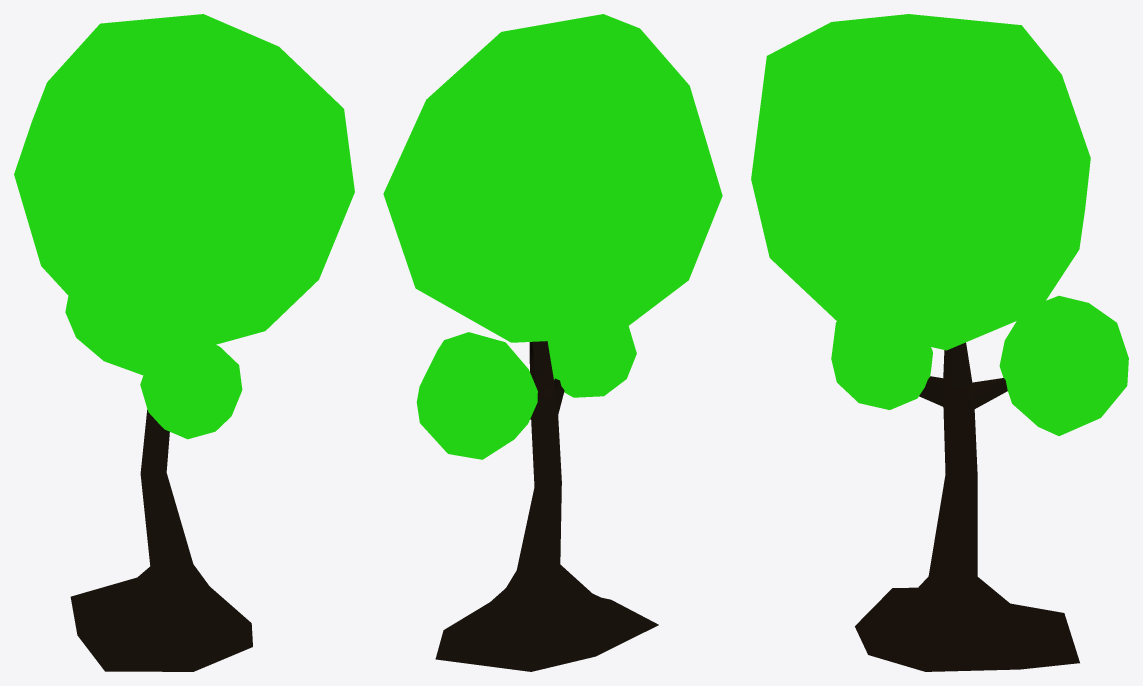
The model's file is arbolito.obj.
3 renders of one model, left to right at view 1: azimuth 30°, elevation 25°; view 2: azimuth 150°, elevation 25°; view 3: azimuth 270°, elevation 25°, orthographic. The views are drawn at different scales.
Parts seen in each view (by area): view 1: Plano.001; view 2: Plano.001; view 3: Plano.001.
Part boxes in pixels (left/top/right/bottom): Plano.001: left=14, top=14, right=354, bottom=671; Plano.001: left=383, top=14, right=722, bottom=671; Plano.001: left=751, top=14, right=1128, bottom=671.
Size of the model in its own units: 8.43 by 16.39 by 9.01.
